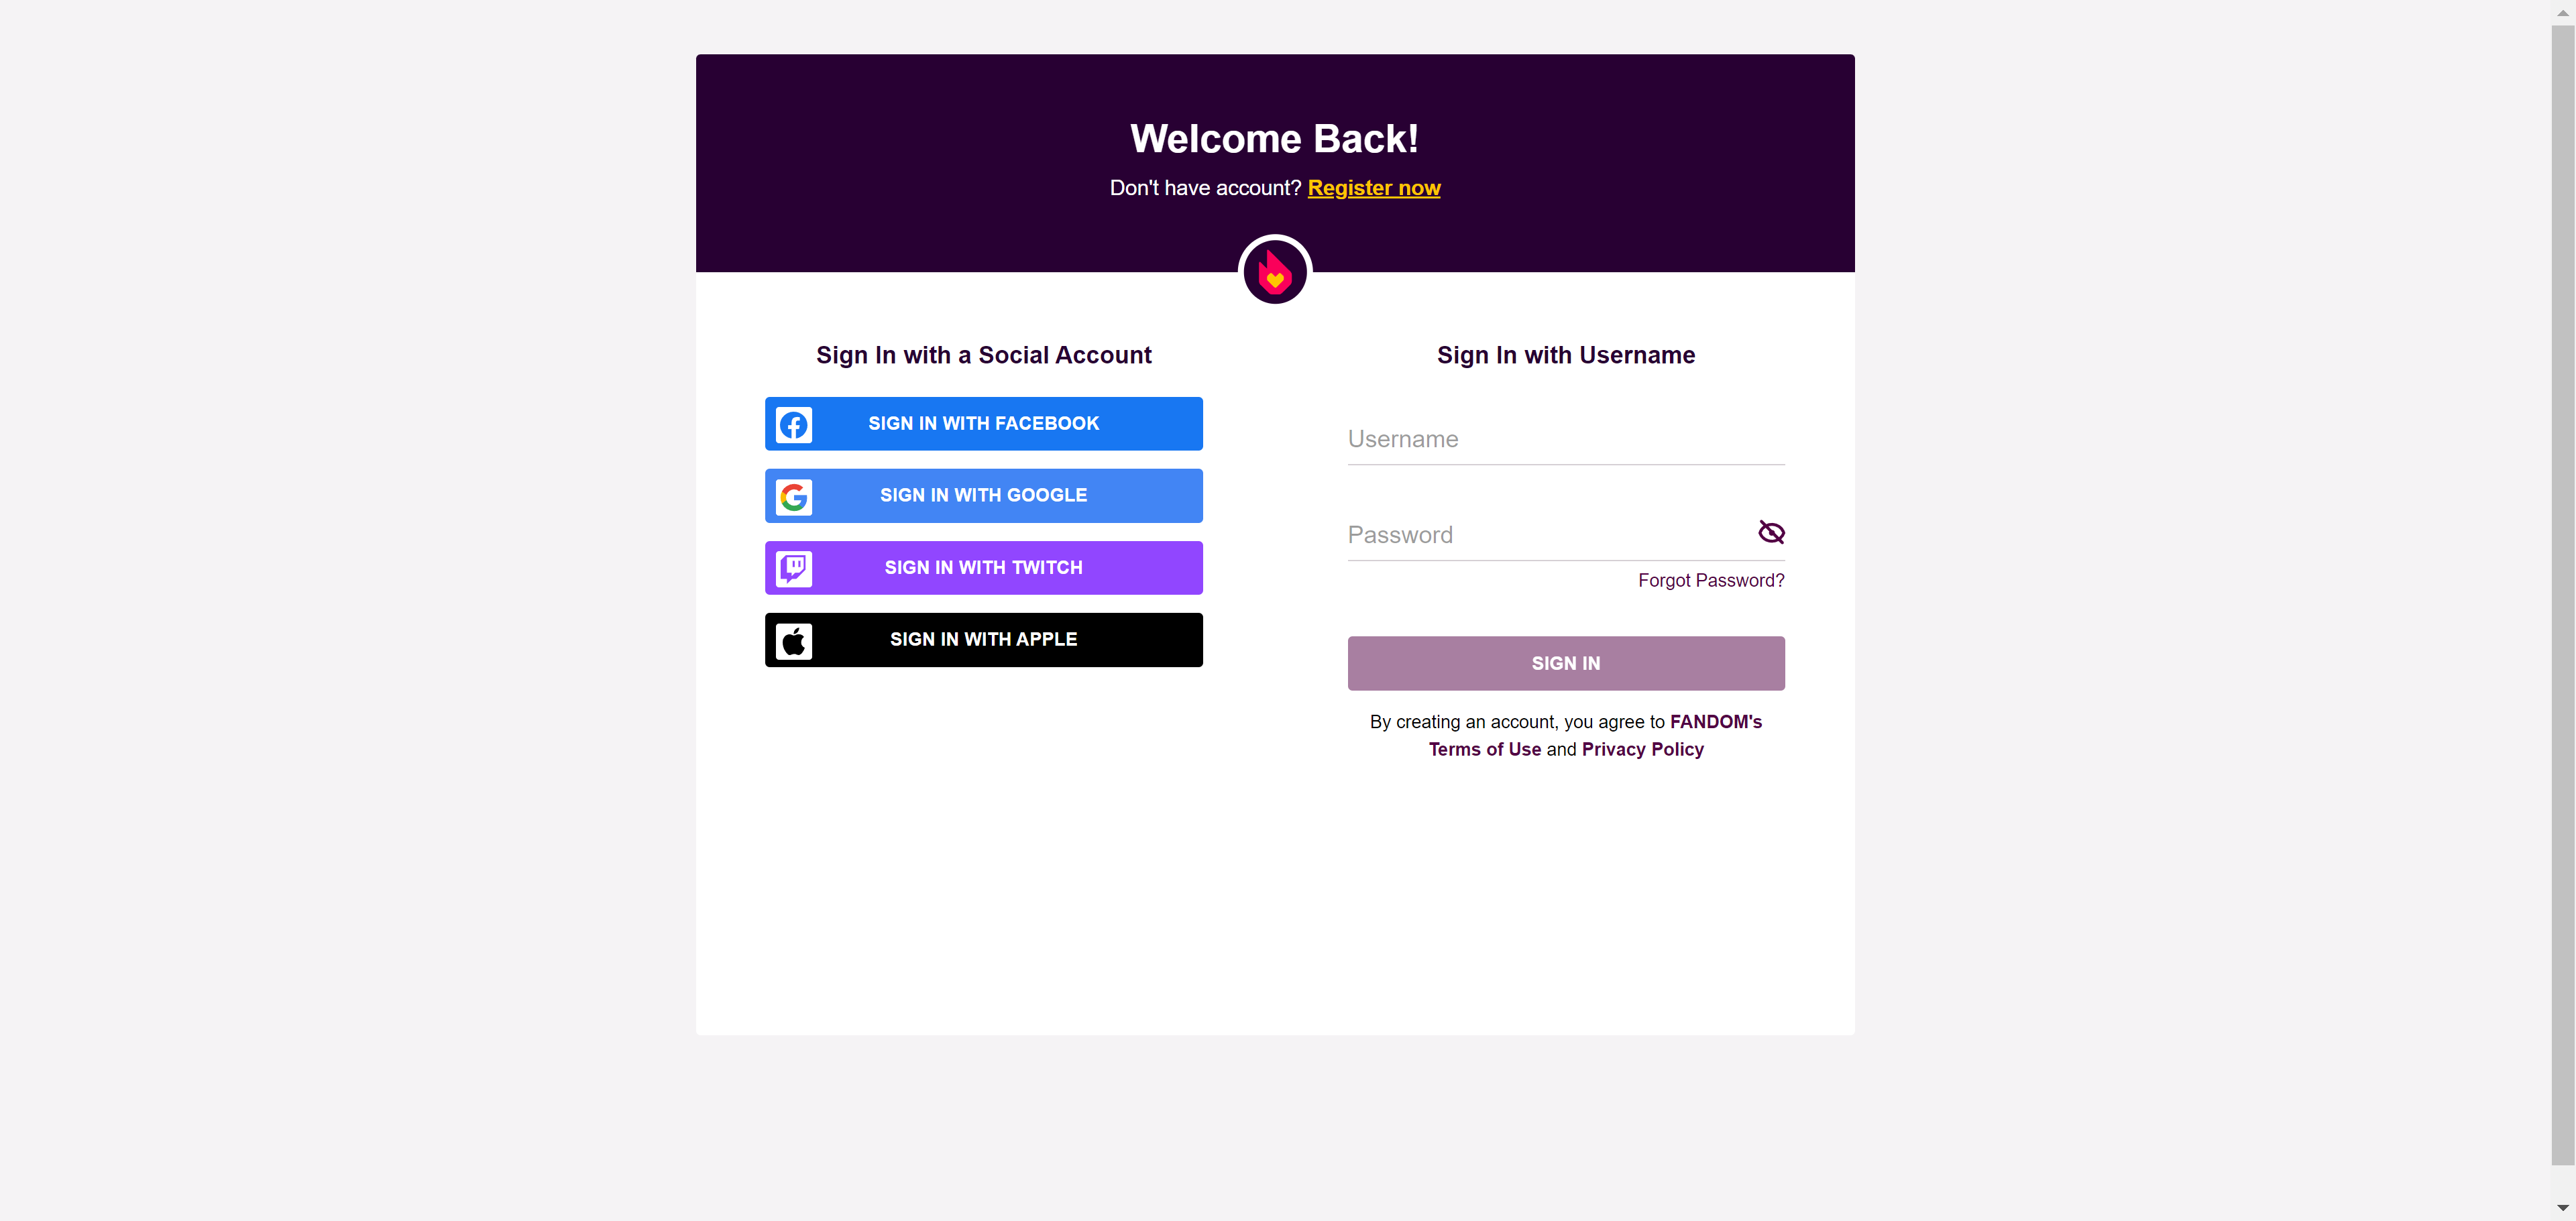login_button: (1349, 638, 1786, 690)
login_form: (1332, 409, 1801, 703)
